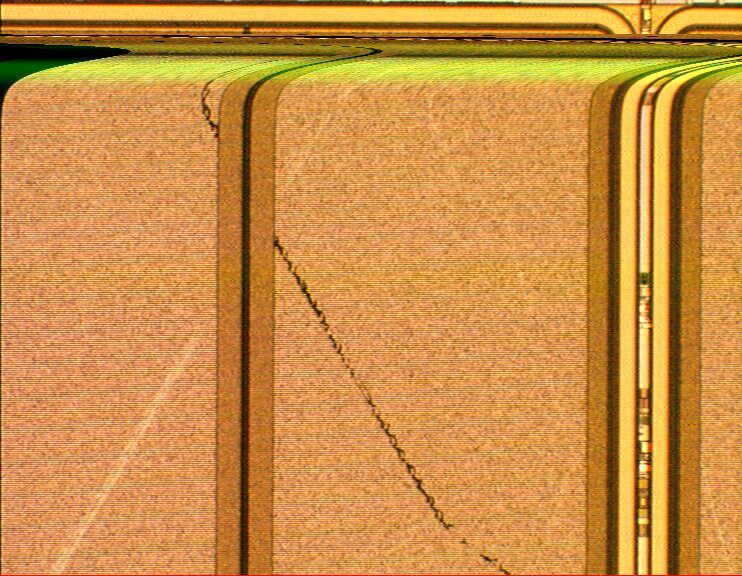SCRATCH: (193, 70, 518, 576)
